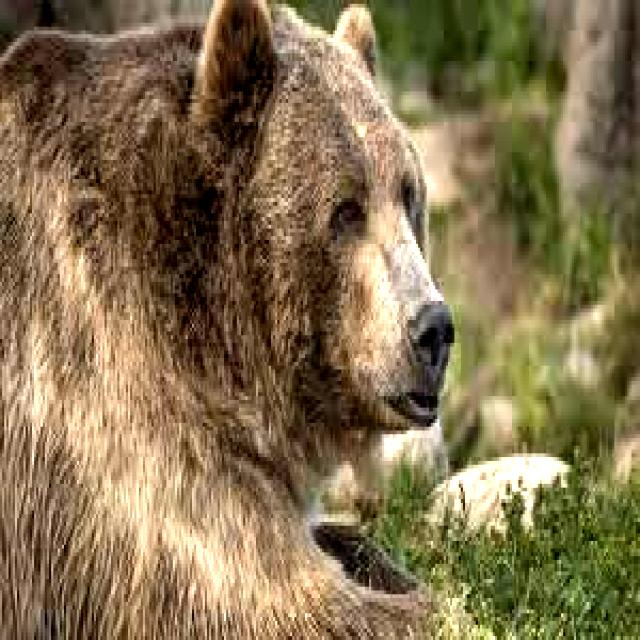bear: (4, 16, 442, 629)
